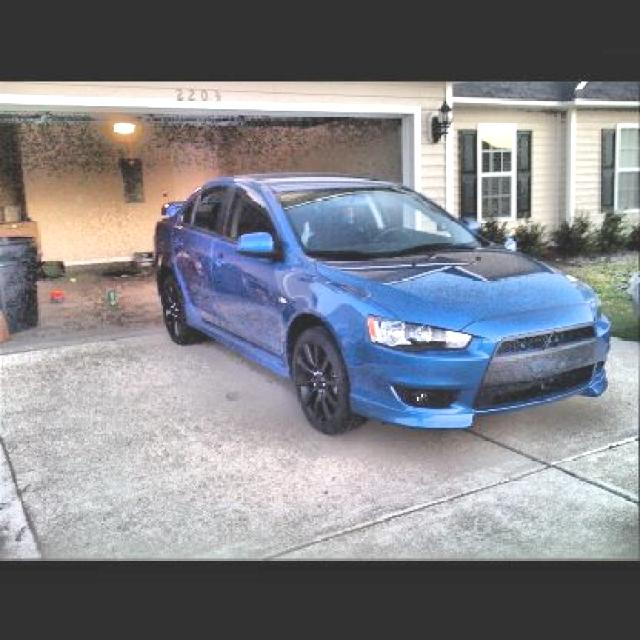blue: (153, 172, 610, 434)
